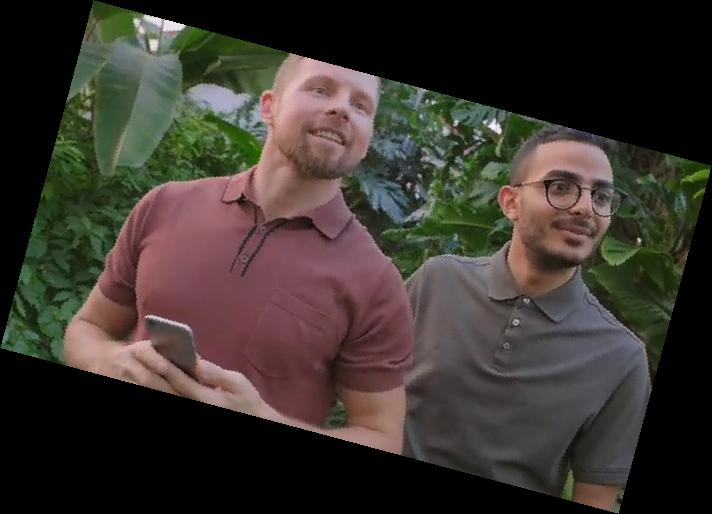phone: (140, 311, 201, 384)
